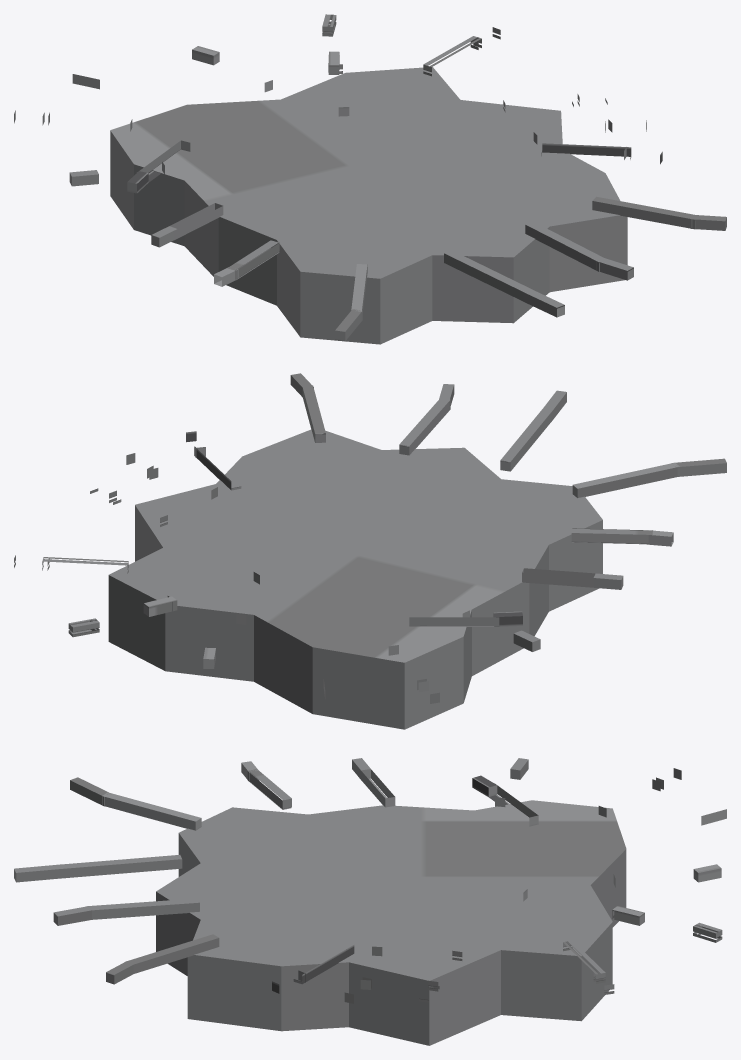
3 renders of one model, top to bottom at view 1: azimuth 30°, elevation 25°; view 2: azimuth 150°, elevation 25°; view 3: azimuth 270°, elevation 25°, orthographic. The views are drawn at different scales.
Size of the model in its own units: 1.06 by 0.155 by 1.35.
